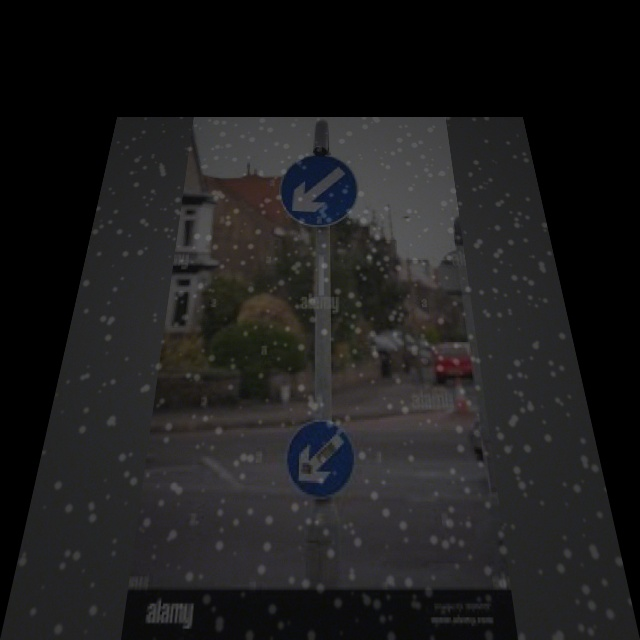Compulsory_Keep_Left: (277, 154, 359, 226)
